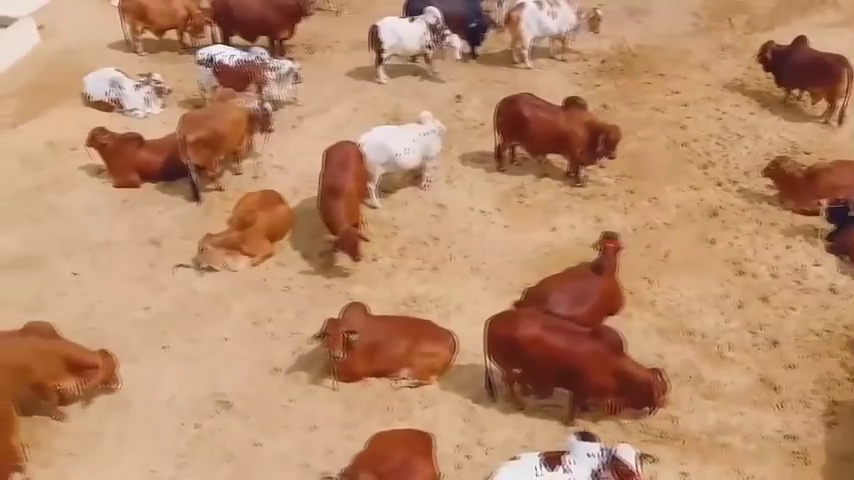bo: (477, 308, 677, 431), (312, 291, 463, 392), (516, 224, 646, 329), (2, 313, 127, 416), (489, 93, 621, 180), (308, 131, 386, 272), (474, 423, 668, 477), (182, 182, 292, 277), (170, 93, 275, 192), (757, 27, 851, 130), (352, 103, 443, 200), (190, 46, 307, 111), (502, 3, 620, 67), (753, 143, 852, 215), (203, 3, 329, 59), (79, 126, 181, 194), (105, 3, 207, 66), (337, 426, 460, 478), (393, 1, 495, 59), (73, 62, 178, 117), (806, 187, 848, 271)
